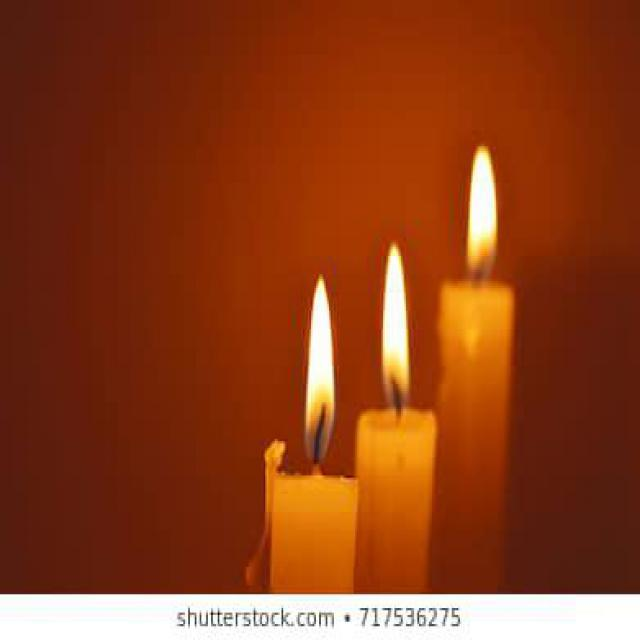Fire: (306, 274, 336, 466), (466, 144, 498, 283), (383, 242, 409, 409)
